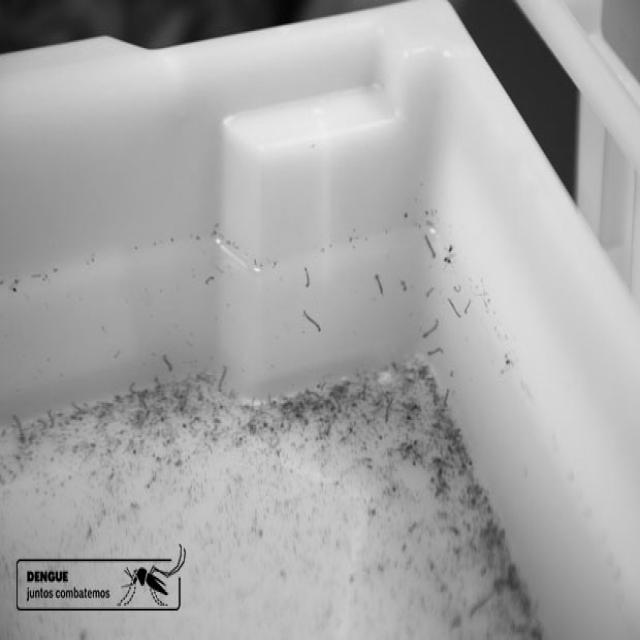larvas: (304, 311, 321, 334), (424, 235, 438, 259), (423, 320, 440, 339), (12, 417, 25, 441), (217, 368, 230, 390), (384, 396, 393, 426), (424, 347, 448, 358), (448, 296, 461, 316), (127, 381, 143, 397), (164, 351, 175, 374), (424, 286, 436, 302), (37, 416, 49, 432), (444, 385, 451, 409), (463, 299, 473, 315), (48, 410, 56, 430), (376, 276, 384, 294), (205, 272, 216, 284), (453, 280, 463, 293), (305, 269, 311, 289)
